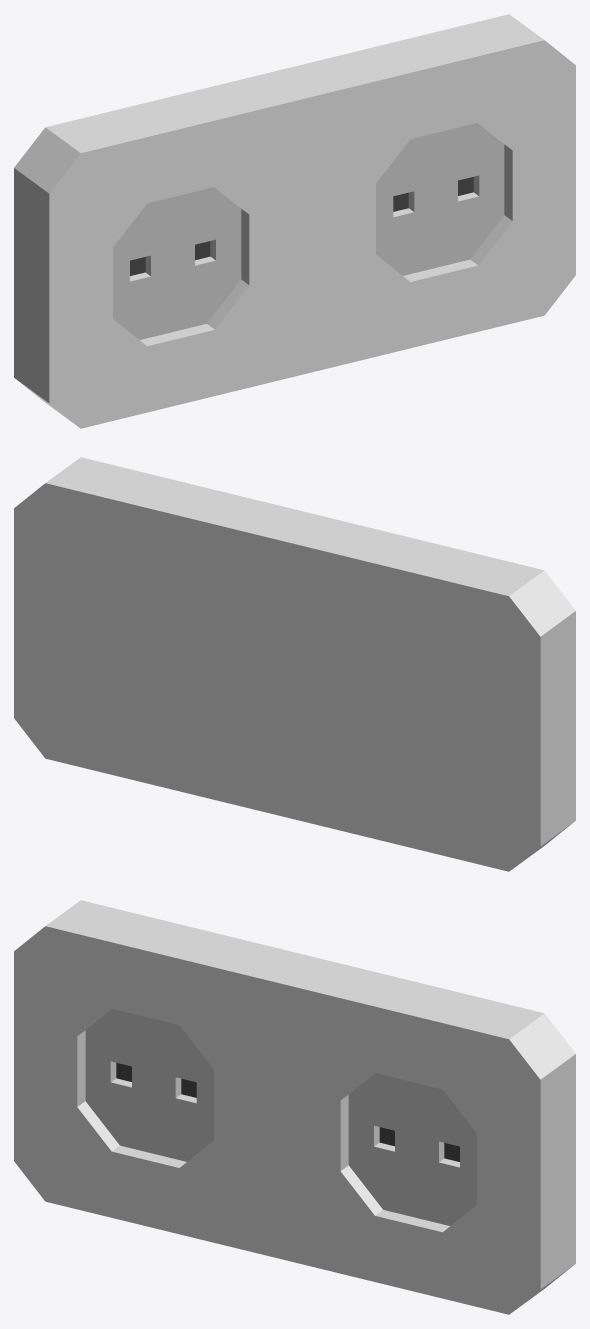
Rendered from Socket5_C1.fbx.
3 renders of one model, top to bottom at view 1: azimuth 30°, elevation 25°; view 2: azimuth 150°, elevation 25°; view 3: azimuth 330°, elevation 25°, orthographic.
Parts seen in each view (by area): view 1: Socket5_C1; view 2: Socket5_C1; view 3: Socket5_C1.
Boxes of the visible parts, x1=… form: Socket5_C1: x1=14, y1=14, x2=575, y2=428; Socket5_C1: x1=14, y1=457, x2=575, y2=871; Socket5_C1: x1=14, y1=900, x2=575, y2=1314.
Size of the model in its own units: 16.89 by 8.44 by 1.97.
